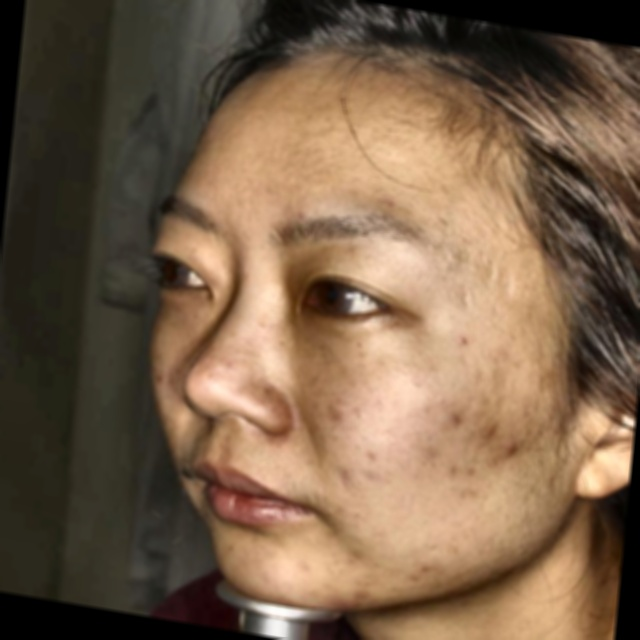comedone: (332, 577, 373, 616), (491, 437, 526, 464), (439, 405, 464, 433), (477, 415, 500, 437)
